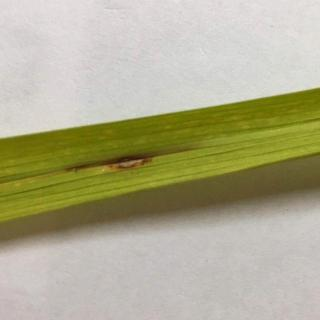Blast: (68, 138, 181, 175)
